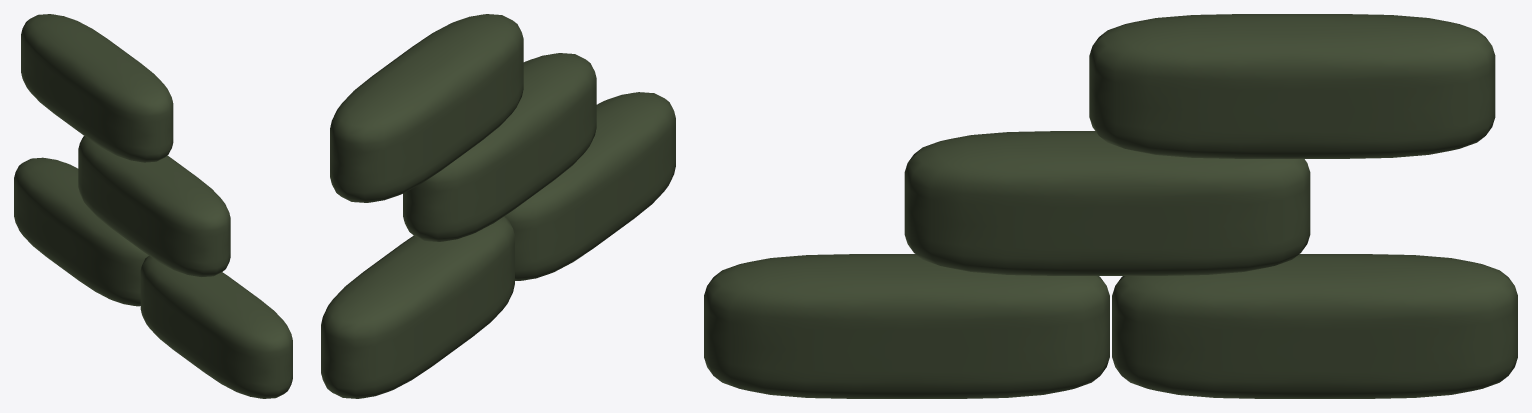
File: Wall 10.fbx
3 views of the same model, side by side, from view 1: azimuth 30°, elevation 25°; view 2: azimuth 150°, elevation 25°; view 3: azimuth 270°, elevation 25° (orthographic). The views are drawn at different scales.
Visible parts, largest first — view 1: Cube; view 2: Cube; view 3: Cube.
Boxes of the visible parts, x1,y1,x2,y2 form: Cube: (14, 14, 292, 398); Cube: (321, 14, 675, 398); Cube: (704, 14, 1517, 398).
Bounding box in the file's own units: 81.86 × 283 × 577.
